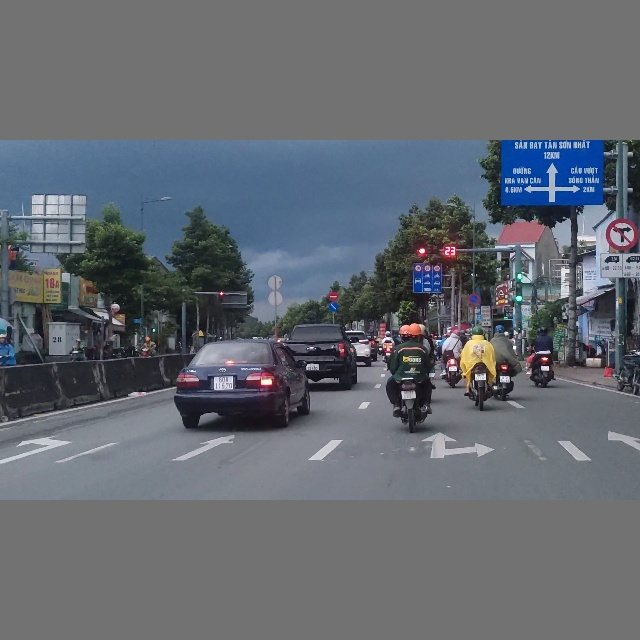P.102: (329, 292, 338, 301)
P.127*60: (424, 265, 431, 272), (433, 265, 440, 272), (415, 265, 422, 271)
P.131a: (469, 293, 480, 305)
P.137: (606, 217, 639, 251)
R.302a: (329, 302, 338, 312)
R.415a: (413, 273, 442, 293)
